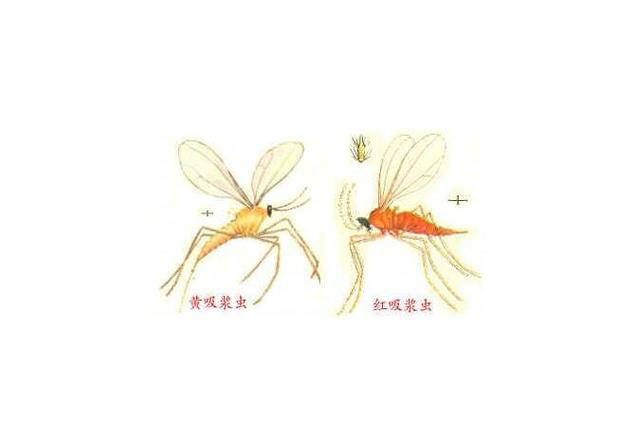Cecidomyiidae: (160, 136, 321, 314), (330, 129, 474, 317)
